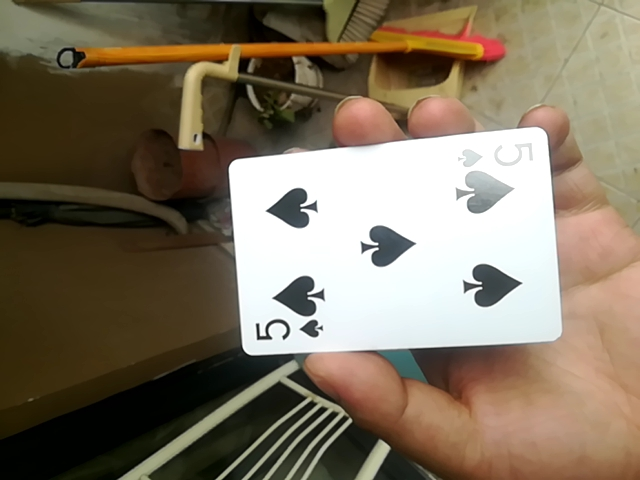ht 5: (223, 126, 560, 356)
